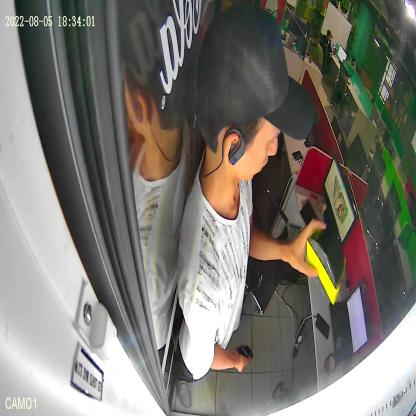yellow: (306, 228, 346, 306)
